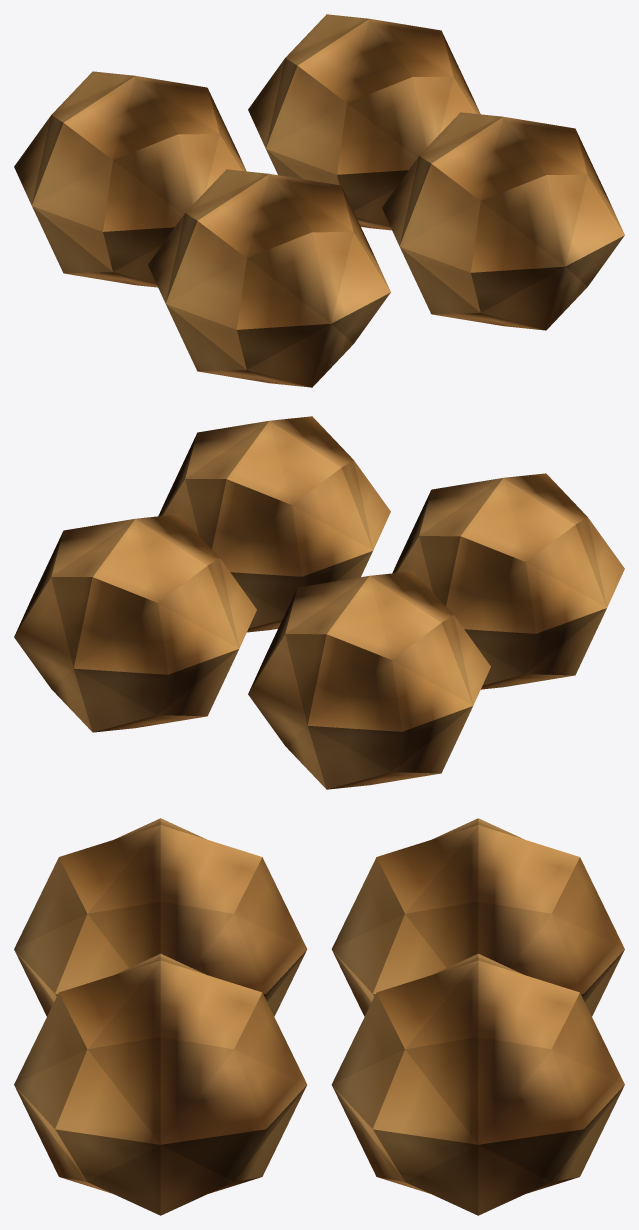
The model's file is hair_female_04.dae.
3 renders of one model, top to bottom at view 1: azimuth 30°, elevation 25°; view 2: azimuth 150°, elevation 25°; view 3: azimuth 270°, elevation 25°, orthographic. The views are drawn at different scales.
Parts seen in each view (by area): view 1: a_hair_female_04; view 2: a_hair_female_04; view 3: a_hair_female_04.
Part boxes in pixels (x1=…): a_hair_female_04: x1=14, y1=14, x2=624, y2=387; a_hair_female_04: x1=14, y1=416, x2=624, y2=789; a_hair_female_04: x1=14, y1=818, x2=624, y2=1215.
Size of the model in its own units: 0.5338 by 0.5392 by 0.242.
